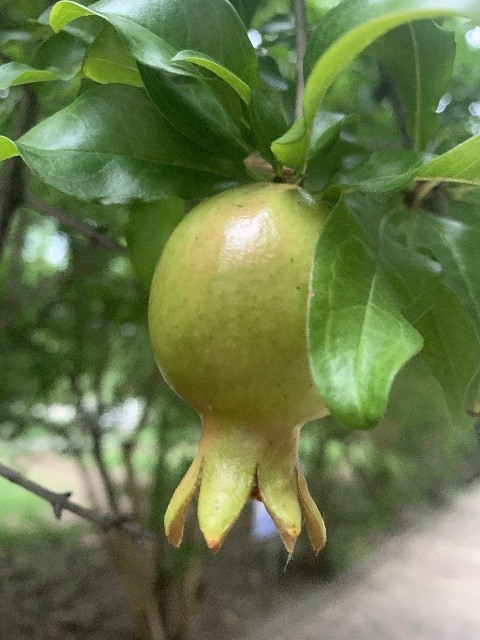mid-growth: (146, 182, 332, 556)
